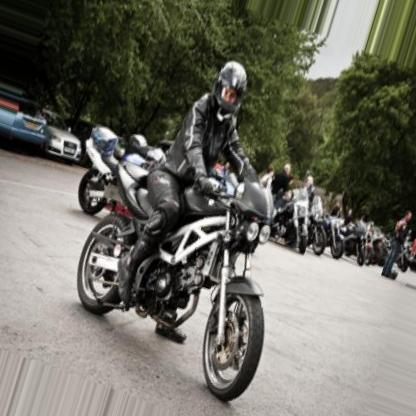with helmet: (210, 59, 249, 125)
